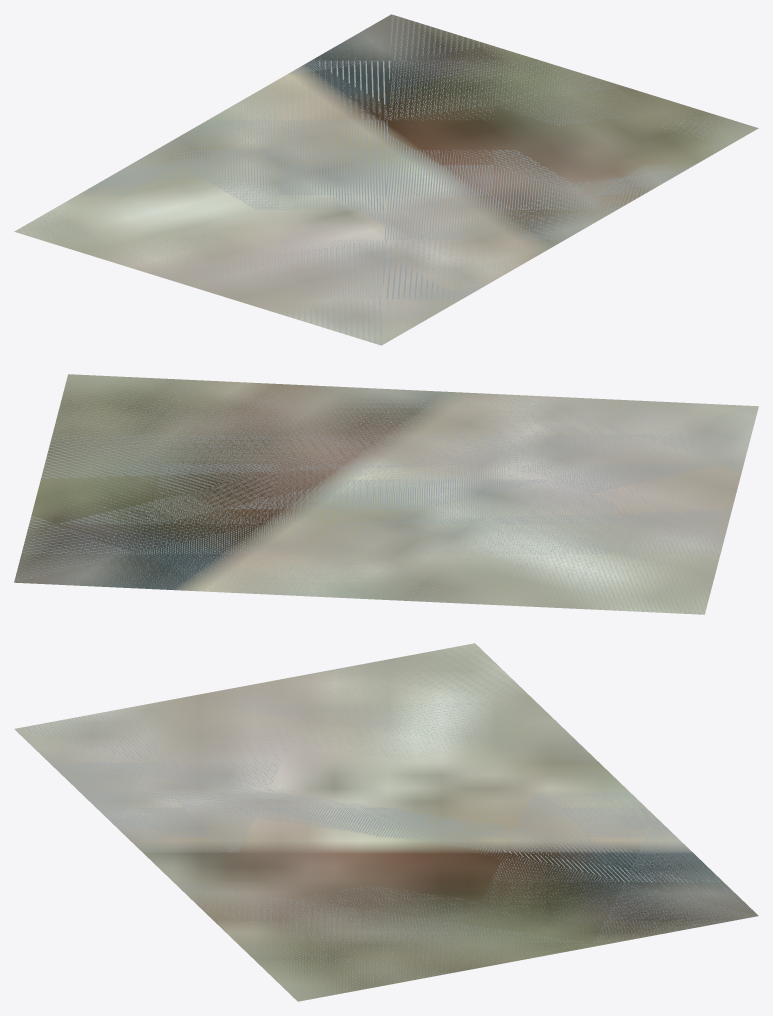
File: 西庸城堡434.dae
The picture shows the model from 3 angles, top to bottom: view 1: azimuth 30°, elevation 25°; view 2: azimuth 150°, elevation 25°; view 3: azimuth 270°, elevation 25°; orthographic projection. The views are drawn at different scales.
Visible parts, largest first — view 1: SketchUp; view 2: SketchUp; view 3: SketchUp.
Part boxes in pixels (box(x1,y1,x2,y2)): SketchUp: box(14, 14, 758, 345); SketchUp: box(14, 374, 758, 614); SketchUp: box(14, 643, 758, 1001).
Size of the model in its own units: 49.73 by 43.67 by 0.
